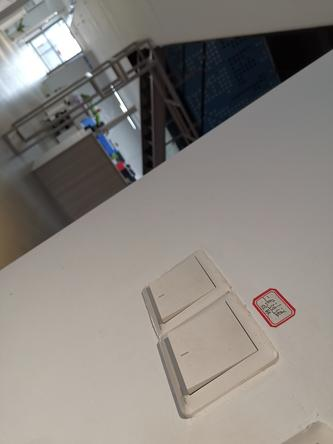switch: (163, 300, 267, 401), (145, 247, 217, 321)
